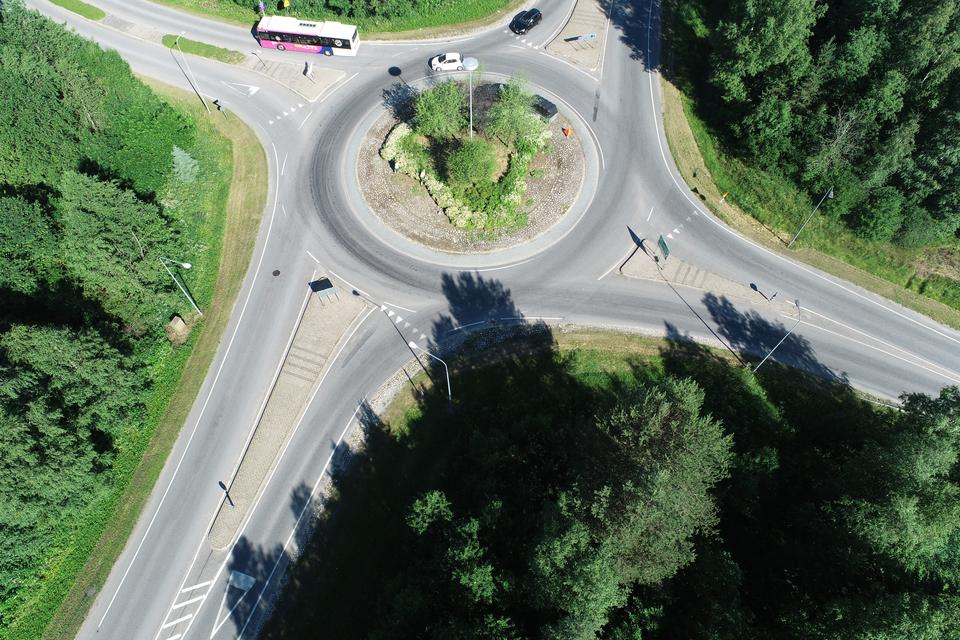roundabout: (186, 7, 720, 392)
